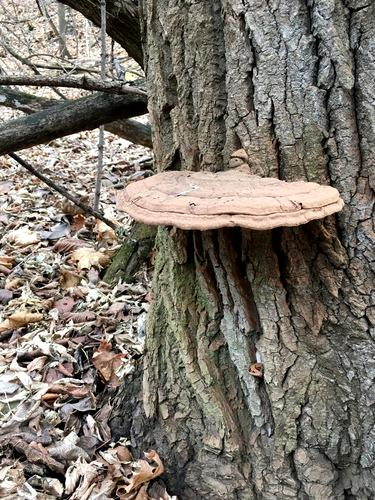Ganoderma - Fruit Body: (117, 170, 345, 232)
